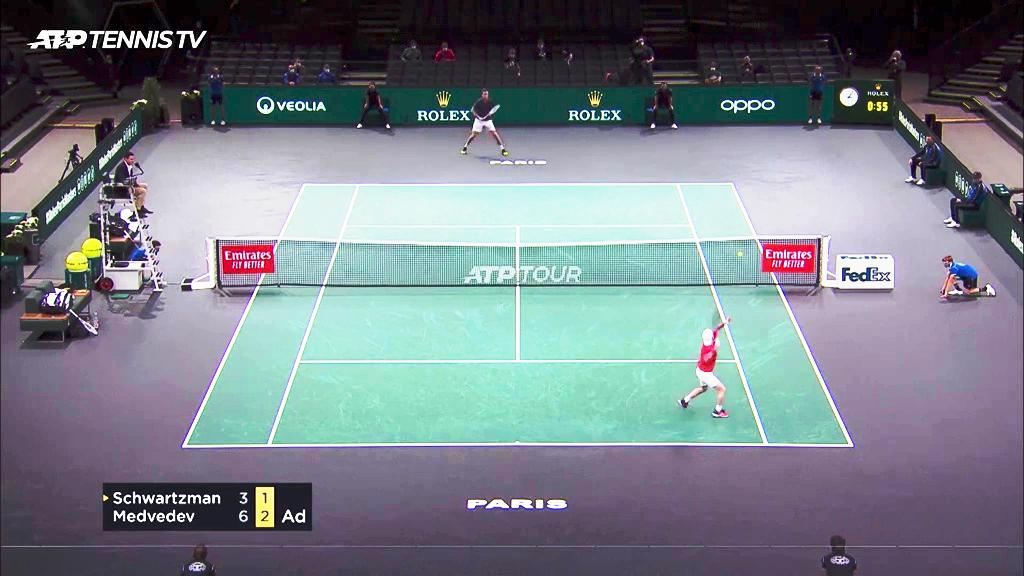tennis-court: (181, 183, 854, 447)
